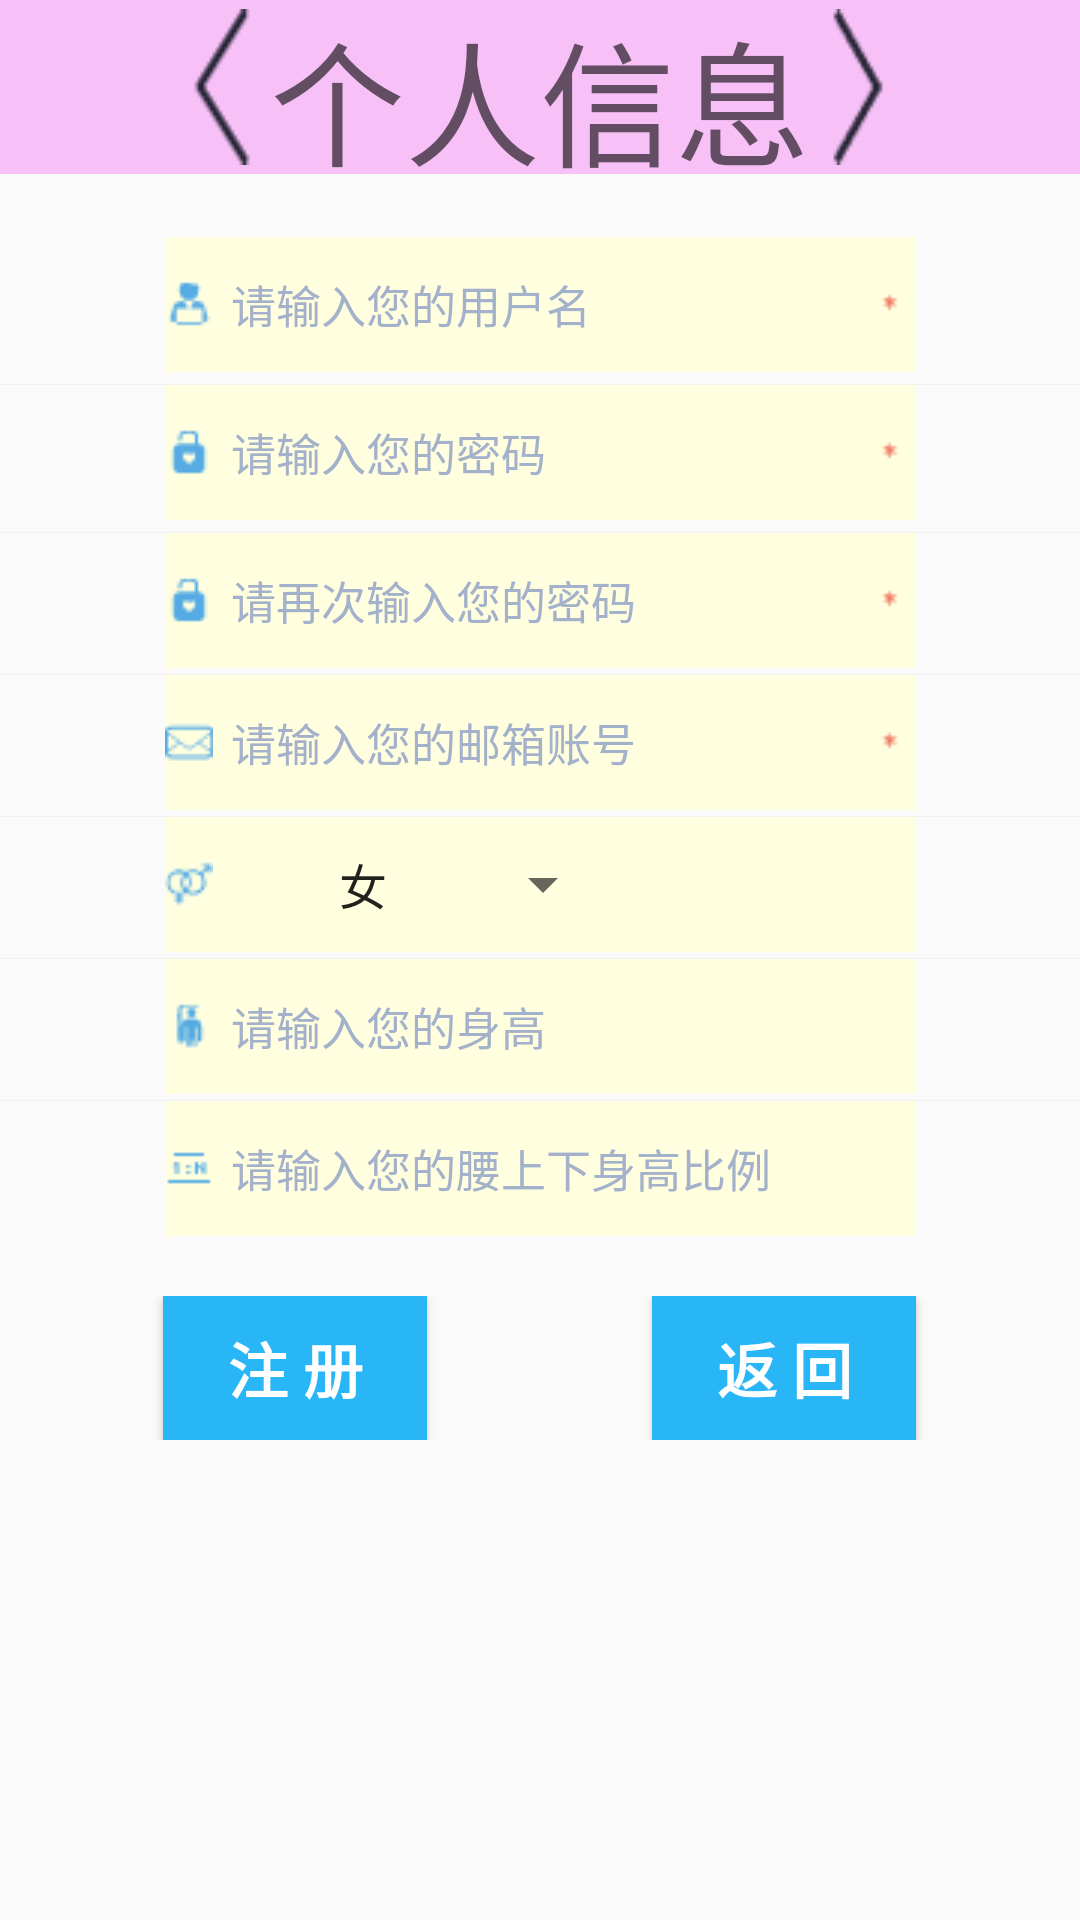

Point at icon controls on the screen. Image size 1080w x 1920h, points as [x,y].
arrowleft: [222,87]
arrowright: [858,87]
